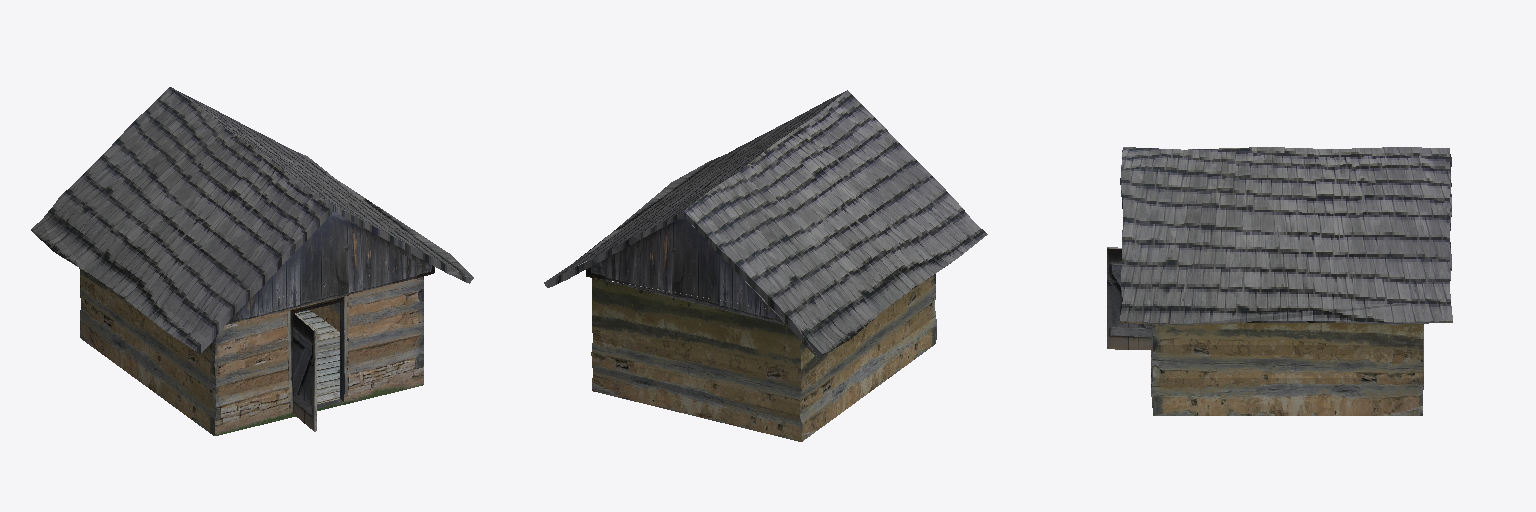
The picture shows the model from 3 angles: view 1: azimuth 30°, elevation 25°; view 2: azimuth 150°, elevation 25°; view 3: azimuth 270°, elevation 25°; orthographic projection.
Parts seen in each view (by area): view 1: hut1, door; view 2: hut1; view 3: hut1, door.
Part boxes in pixels (left/top/right/bottom): hut1: left=31, top=87, right=473, bottom=435; door: left=293, top=313, right=316, bottom=431; hut1: left=544, top=90, right=987, bottom=441; hut1: left=1120, top=147, right=1452, bottom=415; door: left=1107, top=247, right=1151, bottom=349.
Size of the model in its own units: 13.47 by 9.64 by 13.91.
Materials: 1 (1 with a texture image).